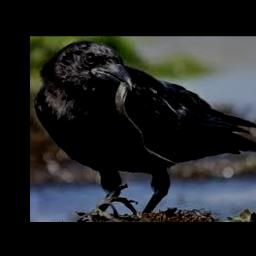Crow: (34, 41, 256, 215)
